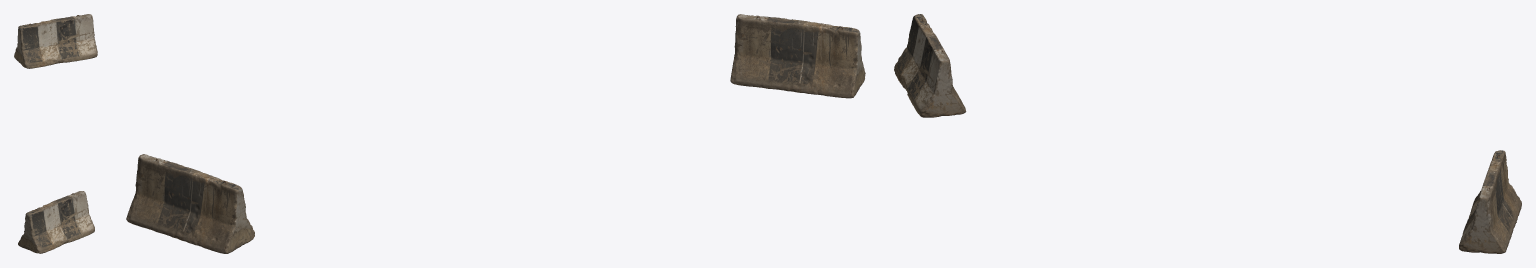
File: SM_PH_concrete_road_barrier.fbx
The picture shows the model from 3 angles, left to right: view 1: azimuth 30°, elevation 25°; view 2: azimuth 150°, elevation 25°; view 3: azimuth 270°, elevation 25°; orthographic projection. The views are drawn at different scales.
Parts seen in each view (by area): view 1: SM_PH_concrete_road_barrier; view 2: SM_PH_concrete_road_barrier; view 3: SM_PH_concrete_road_barrier.
Boxes of the visible parts, x1,y1,x2,y2 form: SM_PH_concrete_road_barrier: (14,14,97,253); SM_PH_concrete_road_barrier: (126,14,865,253); SM_PH_concrete_road_barrier: (894,14,1521,253).
Size of the model in its own units: 5.82 by 8.18 by 0.831.
Materials: 1 (1 with a texture image).
